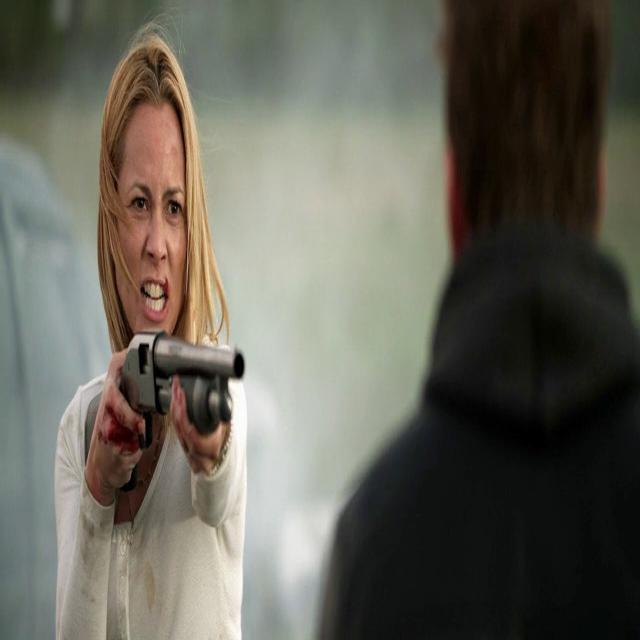gun-knife-thesis - v11 Yolov5 augmented: (118, 324, 255, 504)
